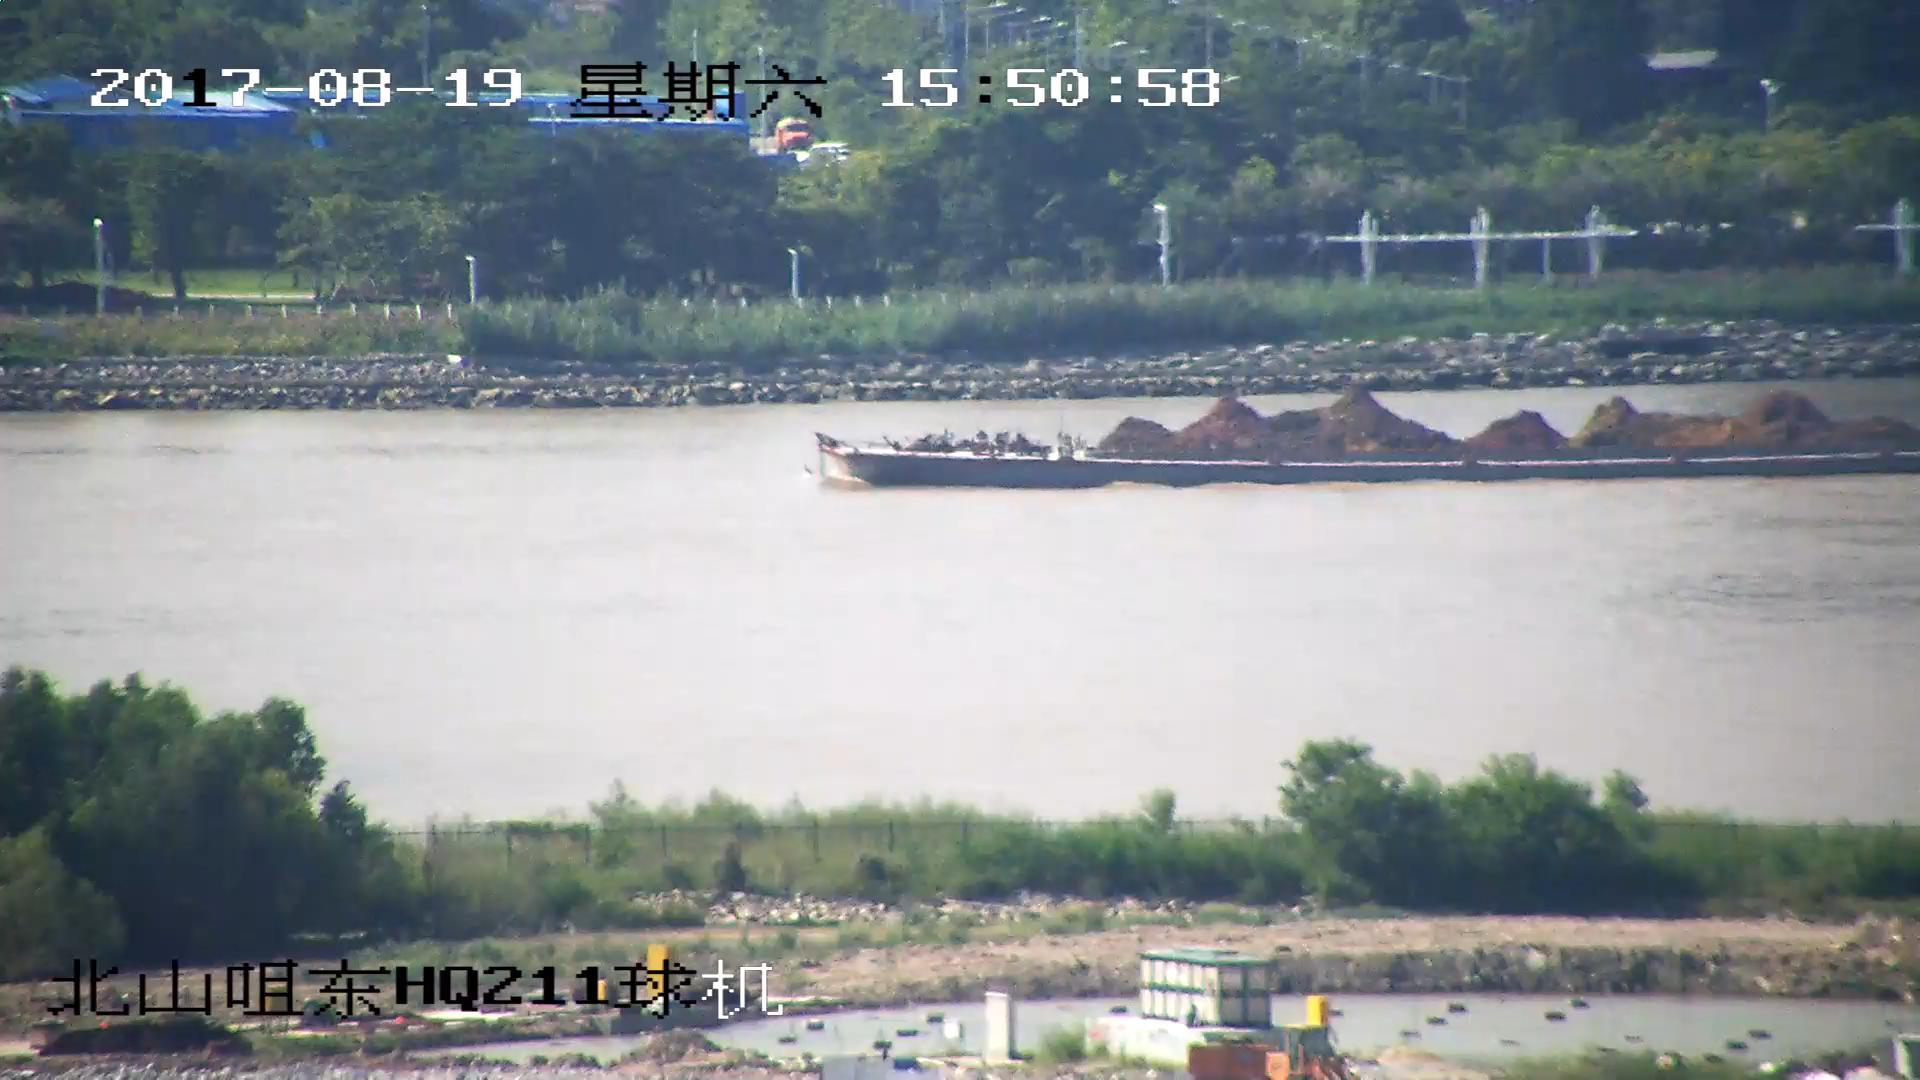Ship: (818, 381, 1920, 498)
